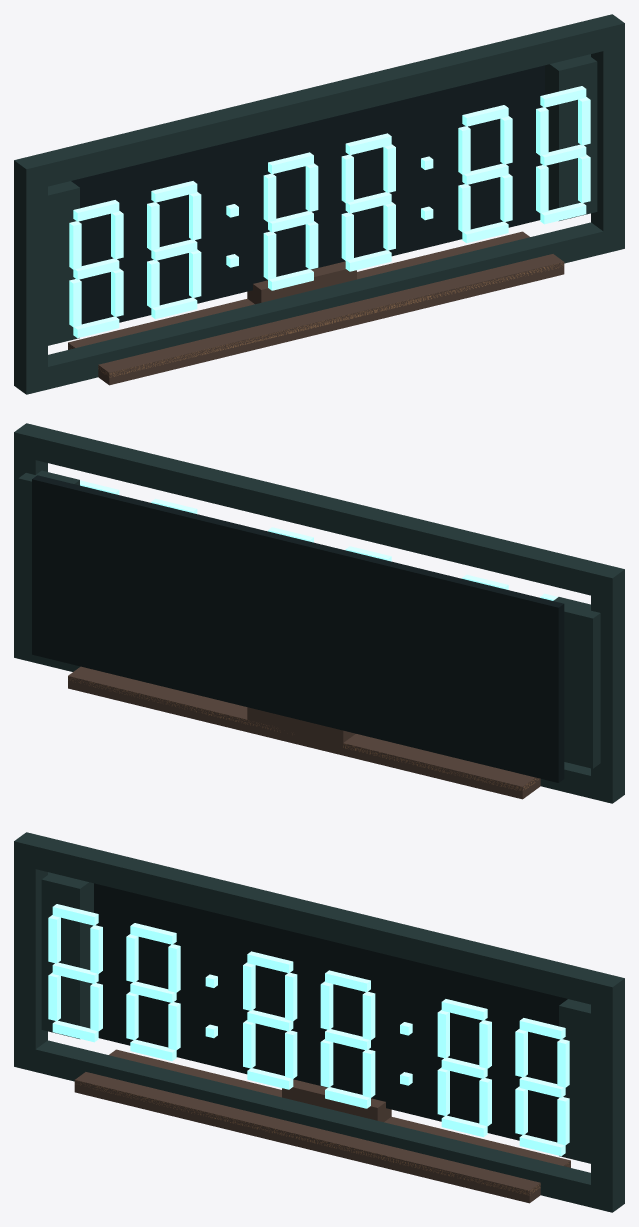
3 renders of one model, top to bottom at view 1: azimuth 30°, elevation 25°; view 2: azimuth 150°, elevation 25°; view 3: azimuth 330°, elevation 25°, orthographic.
Parts seen in each view (by area): view 1: digital-display-back, digital-frame-top, digital-frame-bottom, clock-base, digital-frame-left, digital-bracket-right, digital-frame-right, digital-bracket-left, clock-display-support, clock-base-trim, clock-digit-3-f, clock-digit-3-e (+40 smaller); view 2: digital-display-back, digital-frame-top, clock-base, digital-bracket-left, digital-frame-left, digital-frame-bottom, digital-bracket-right, clock-display-support, digital-frame-right, clock-base-trim; view 3: digital-display-back, digital-frame-top, digital-frame-bottom, clock-base, digital-frame-right, digital-bracket-left, digital-frame-left, digital-bracket-right, clock-display-support, clock-base-trim, clock-digit-4-b, clock-digit-4-c (+40 smaller).
Part boxes in pixels (bbox=[...]): digital-display-back: bbox=[71, 65, 544, 324]; digital-frame-top: bbox=[14, 14, 624, 191]; digital-frame-bottom: bbox=[14, 222, 624, 394]; clock-base: bbox=[68, 231, 564, 385]; digital-frame-left: bbox=[14, 183, 47, 372]; digital-bracket-right: bbox=[545, 54, 597, 220]; digital-frame-right: bbox=[591, 46, 624, 231]; digital-bracket-left: bbox=[48, 181, 79, 345]; clock-display-support: bbox=[247, 261, 356, 304]; clock-base-trim: bbox=[68, 262, 563, 377]; clock-digit-3-f: bbox=[263, 173, 276, 222]; clock-digit-3-e: bbox=[263, 231, 276, 279]; digital-display-back: bbox=[32, 475, 564, 782]; digital-frame-top: bbox=[14, 423, 624, 600]; clock-base: bbox=[68, 666, 540, 799]; digital-bracket-left: bbox=[553, 597, 600, 768]; digital-frame-left: bbox=[591, 592, 624, 781]; digital-frame-bottom: bbox=[14, 635, 624, 803]; digital-bracket-right: bbox=[18, 470, 79, 631]; clock-display-support: bbox=[247, 707, 355, 749]; digital-frame-right: bbox=[14, 455, 47, 639]; clock-base-trim: bbox=[68, 676, 538, 790]; digital-display-back: bbox=[94, 883, 567, 1142]; digital-frame-top: bbox=[14, 832, 624, 1009]; digital-frame-bottom: bbox=[14, 1040, 624, 1212]; clock-base: bbox=[74, 1049, 570, 1203]; digital-frame-right: bbox=[591, 1001, 624, 1190]; digital-bracket-left: bbox=[41, 872, 93, 1038]; digital-frame-left: bbox=[14, 864, 47, 1049]; digital-bracket-right: bbox=[559, 999, 590, 1163]; clock-display-support: bbox=[282, 1079, 391, 1122]; clock-base-trim: bbox=[75, 1080, 568, 1195]; clock-digit-4-b: bbox=[362, 991, 375, 1040]; clock-digit-4-c: bbox=[362, 1049, 375, 1097].
Bounding box in the file's own units: 0.5 × 0.18 × 0.06.
